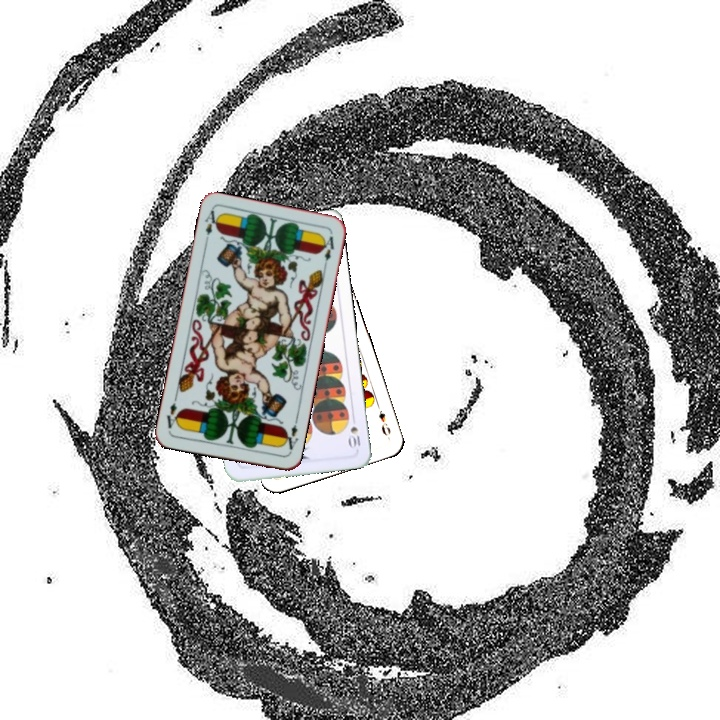E9: (375, 407, 393, 438)
EA: (279, 415, 300, 456), (201, 206, 222, 247)
S10: (345, 411, 363, 452)
